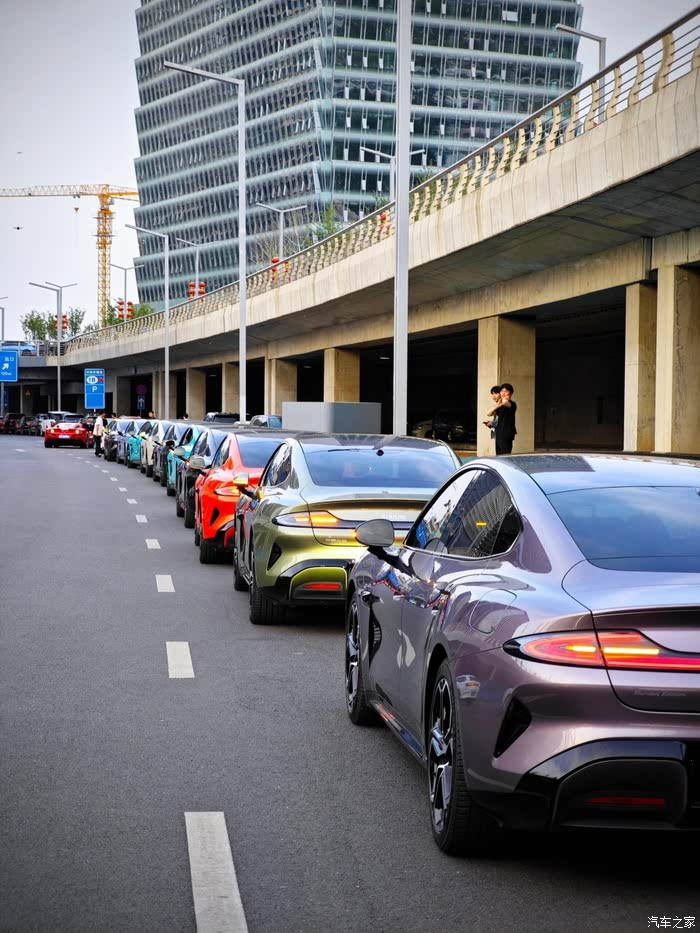other: (41, 415, 90, 454)
su7: (342, 447, 700, 866), (237, 420, 470, 624), (193, 430, 310, 556)
